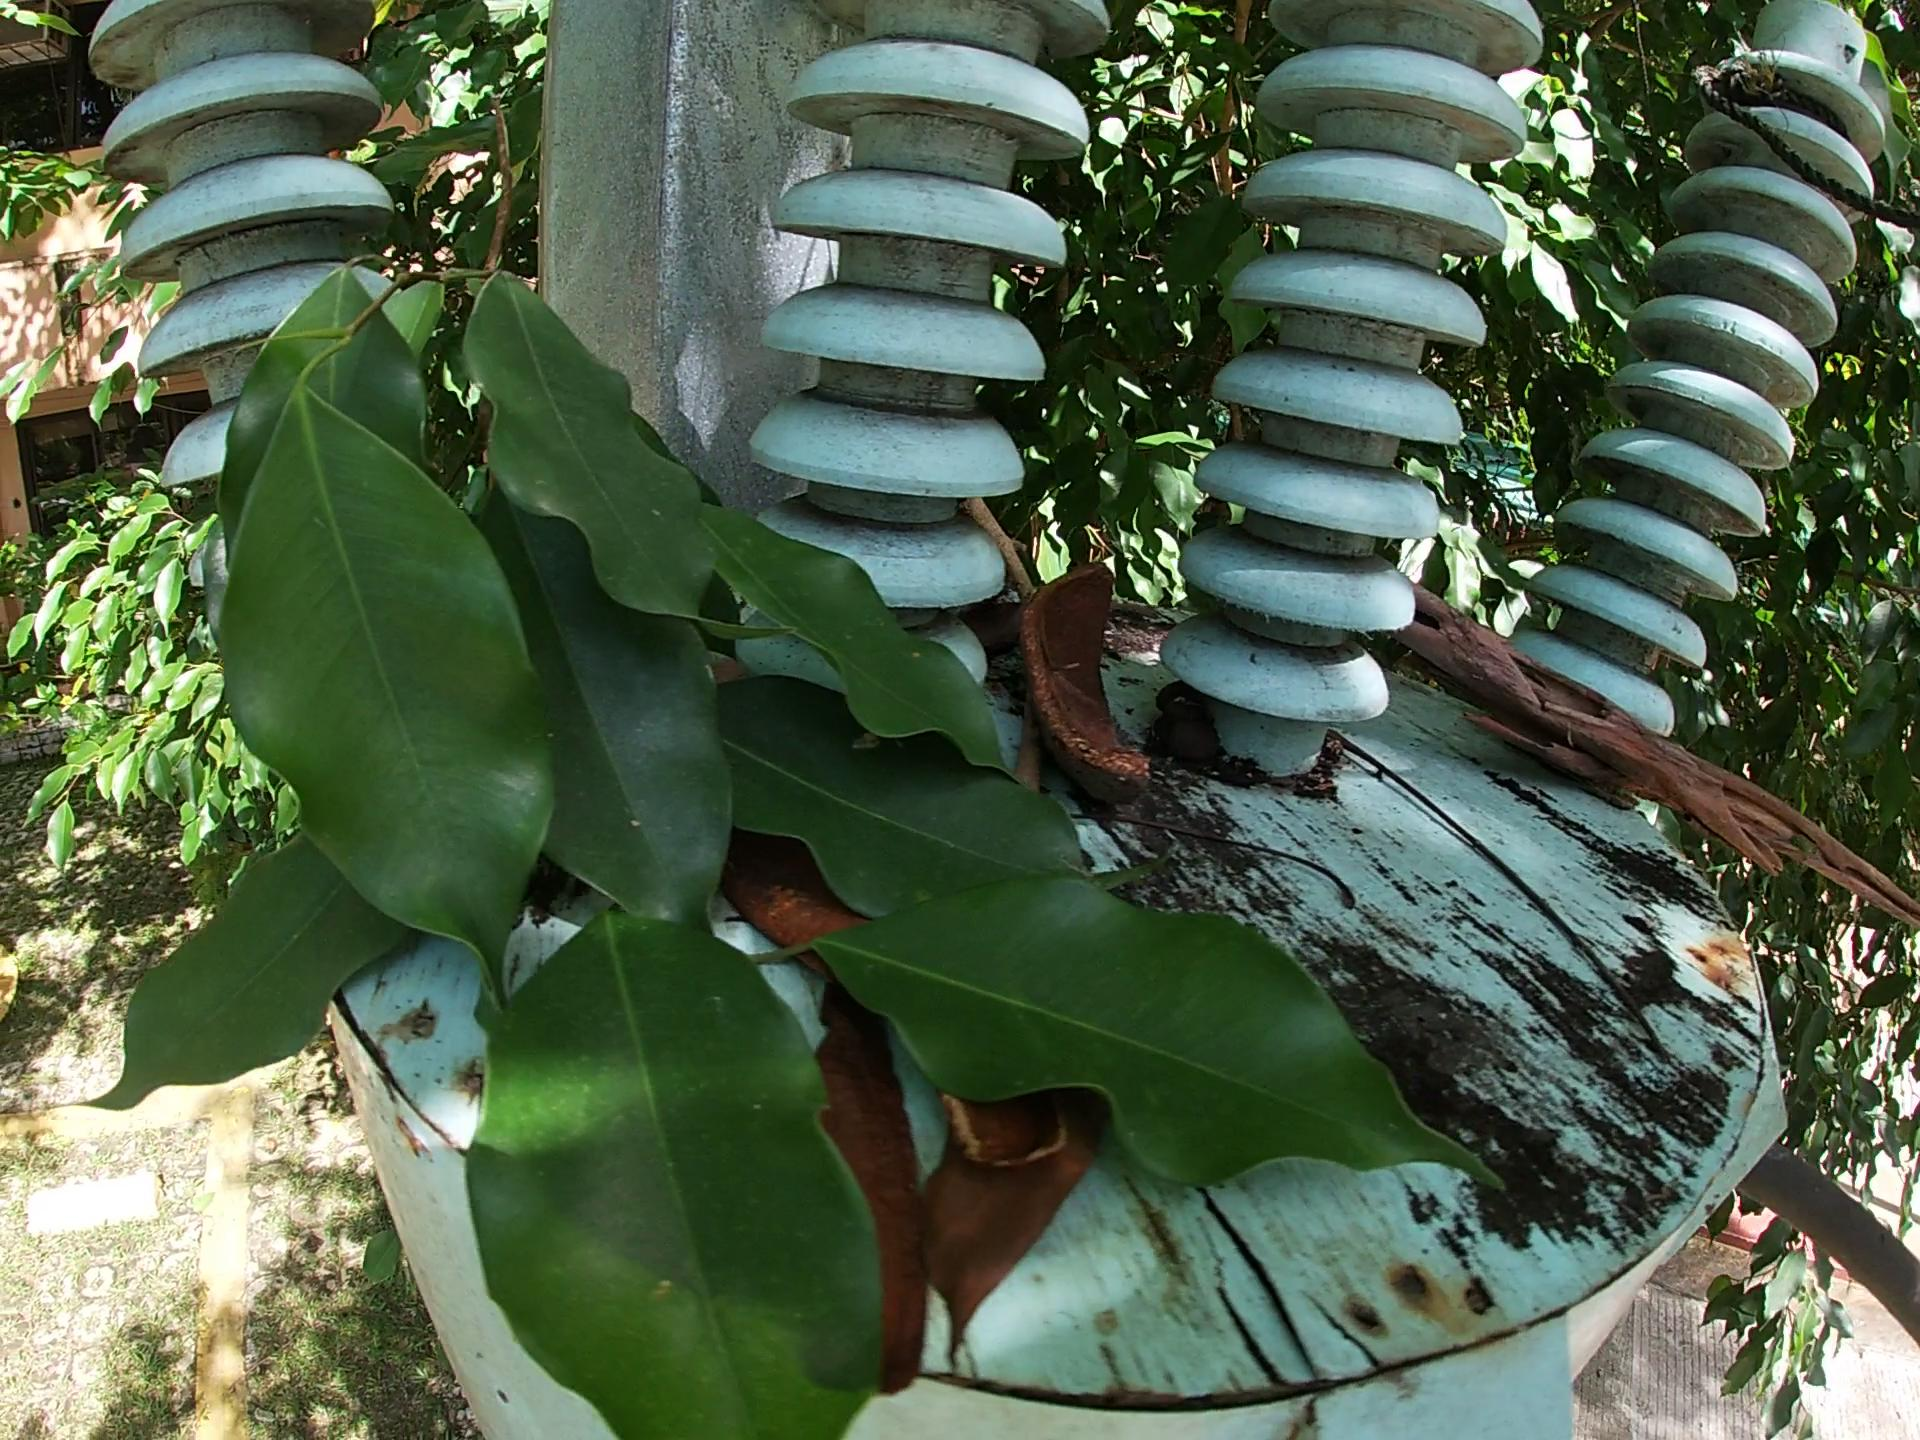branch with leaves: (77, 67, 1575, 1425)
mahogany fruit: (792, 976, 934, 1395), (1017, 569, 1175, 803), (946, 1085, 1067, 1171)
tree branch: (1379, 551, 1920, 947), (1332, 717, 1713, 1082), (927, 1148, 1098, 1351), (1079, 796, 1398, 900), (721, 830, 866, 948), (974, 493, 1045, 601)
